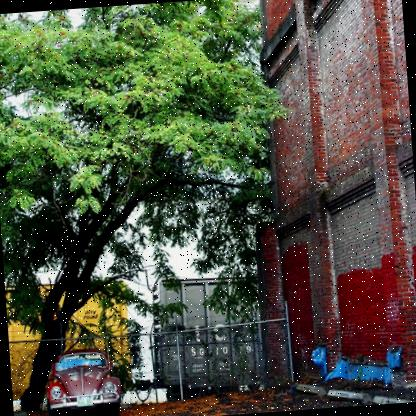Car: (48, 359, 128, 413)
